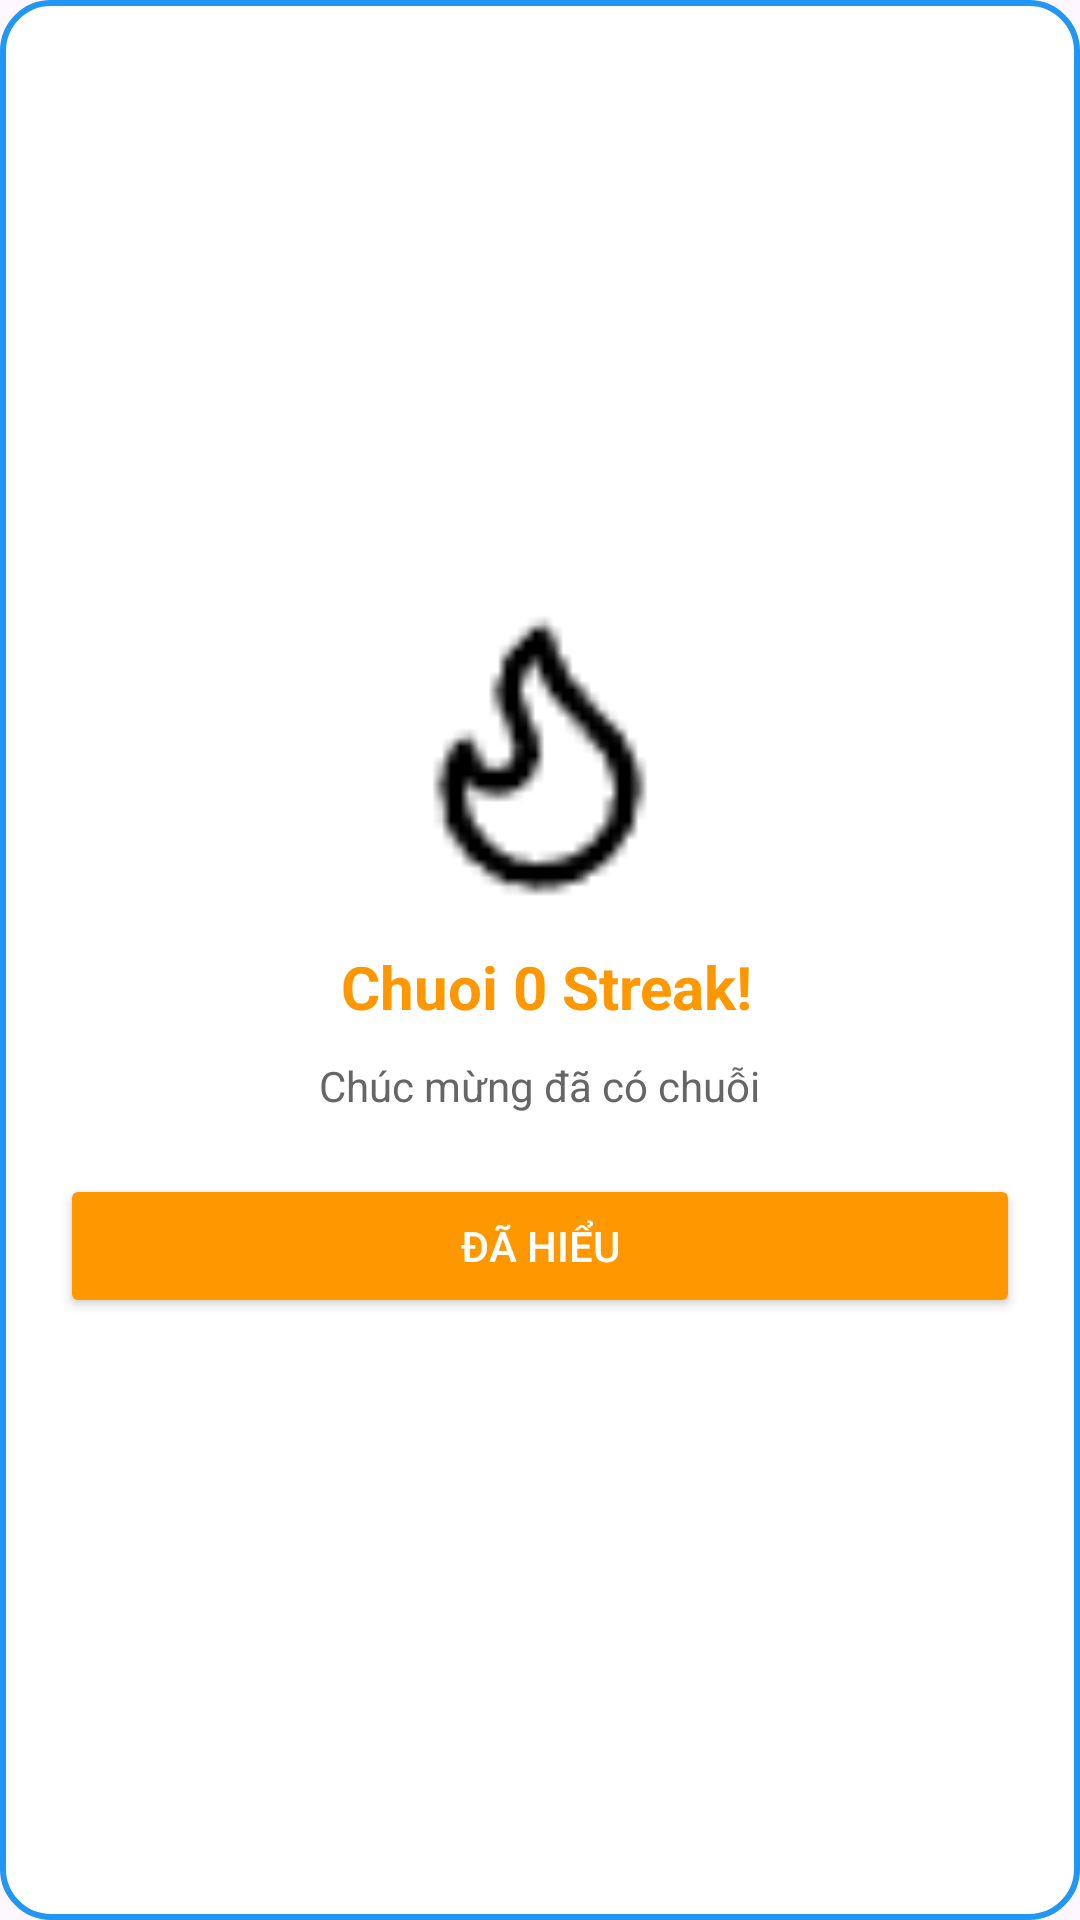

Screen size 1080 × 1920. Icon name, then its center in pixels as (x,y):
flame: (540,757)
